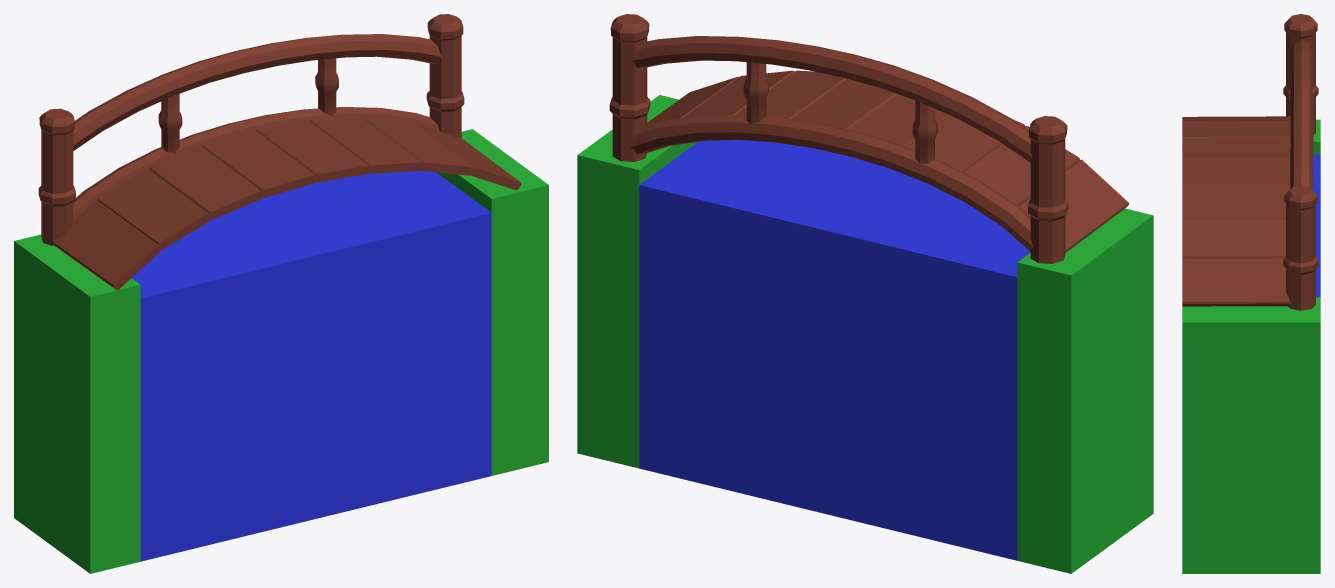
The model's file is module-edge_river_bridge_001.glb.
3 renders of one model, left to right at view 1: azimuth 30°, elevation 25°; view 2: azimuth 150°, elevation 25°; view 3: azimuth 270°, elevation 25°, orthographic. The views are drawn at different scales.
Parts seen in each view (by area): view 1: module-edge_river_bridge_001; view 2: module-edge_river_bridge_001; view 3: module-edge_river_bridge_001.
Part boxes in pixels (x1=…): module-edge_river_bridge_001: x1=14, y1=14, x2=548, y2=573; module-edge_river_bridge_001: x1=577, y1=14, x2=1153, y2=573; module-edge_river_bridge_001: x1=1182, y1=14, x2=1320, y2=573.
Bounding box in the file's own units: 0.866 × 0.7618 × 0.2497.
